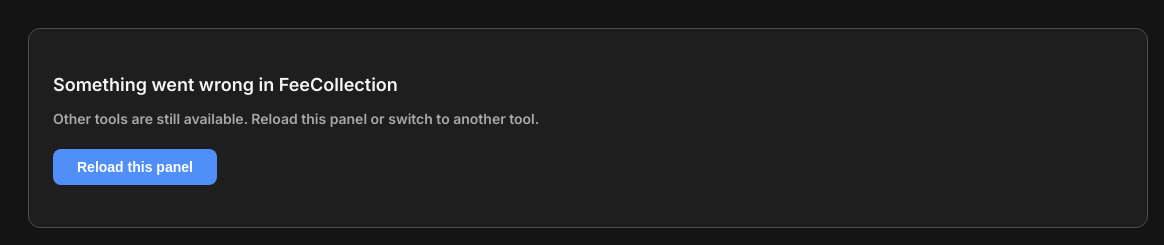
Scenario: shows named contained fallback and can reset the panel
Click the button "Reload this panel" at {"x": 135, "y": 167}, box [53,149,217,185]
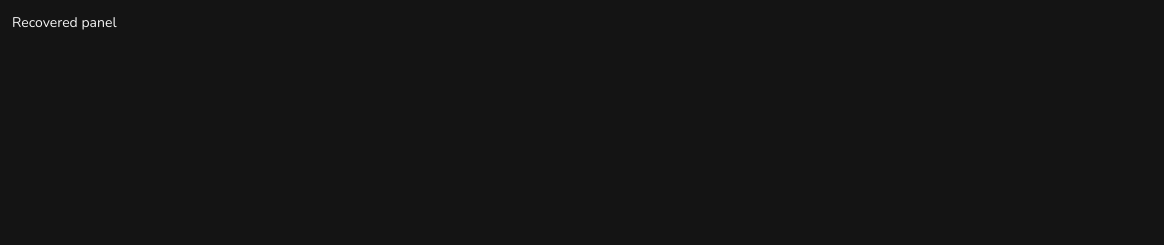
Expected: the text "Recovered panel" is shown, [12,13,116,32]
